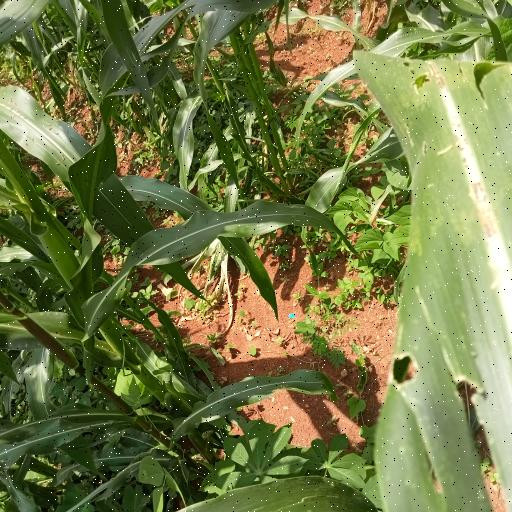Corn_Brown_Spots: (355, 44, 512, 512)
